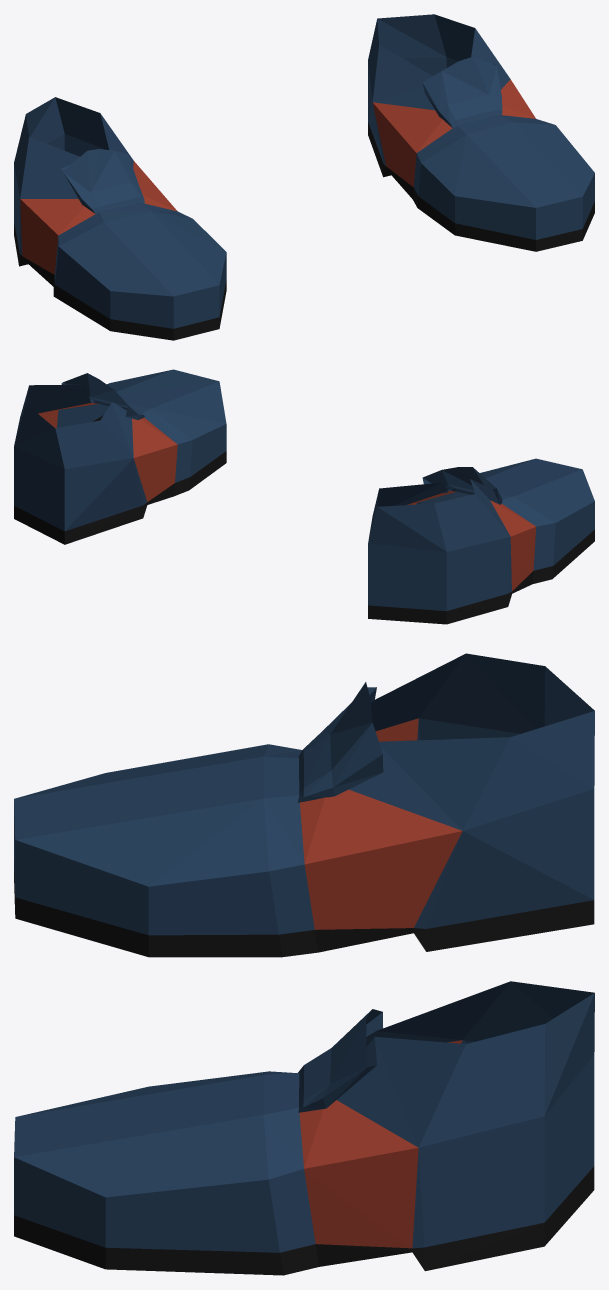
The model's file is LegendaryStarmagiBoots.dae.
3 views of the same model, one above another, from view 1: azimuth 30°, elevation 25°; view 2: azimuth 150°, elevation 25°; view 3: azimuth 270°, elevation 25° (orthographic). The views are drawn at different scales.
Parts seen in each view (by area): view 1: Boots; view 2: Boots; view 3: Boots.
Boxes of the visible parts, x1,y1,x2,y2 form: Boots: (14, 14, 594, 340); Boots: (14, 369, 594, 624); Boots: (14, 653, 594, 1275).
Bounding box in the file's own units: 2.66 × 1.5 × 0.6036.
